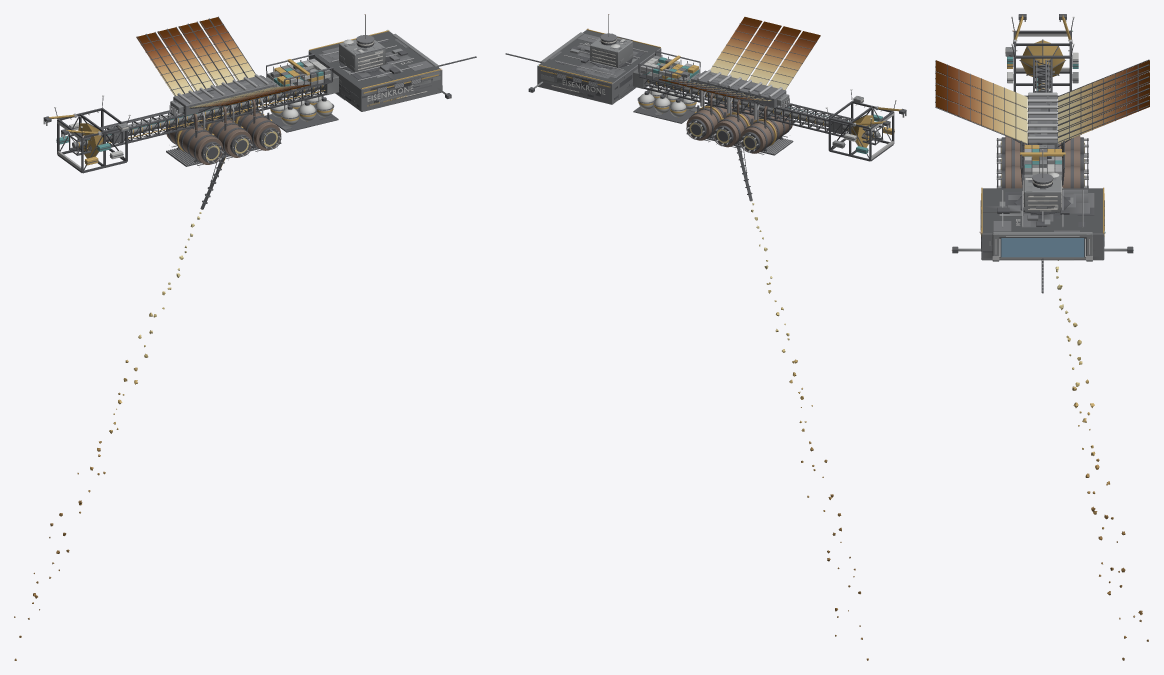
File: Eisenkrone.glb
The picture shows the model from 3 angles, left to right: view 1: azimuth 30°, elevation 25°; view 2: azimuth 150°, elevation 25°; view 3: azimuth 270°, elevation 25°; orthographic projection. The views are drawn at different scales.
Parts seen in each view (by area): view 1: koerper; view 2: koerper; view 3: koerper, schlacke.
Part boxes in pixels (x1=…): koerper: x1=43, y1=14, x2=476, y2=209; koerper: x1=505, y1=14, x2=906, y2=201; koerper: x1=935, y1=14, x2=1149, y2=293; schlacke: x1=1055, y1=260, x2=1148, y2=660.
Bounding box in the file's own units: 853 × 1137 × 321.
